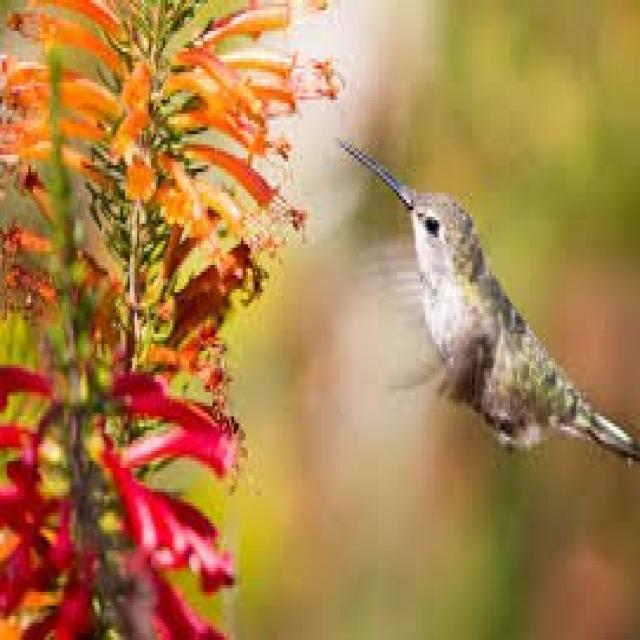Humming Bird: (332, 120, 640, 473)
